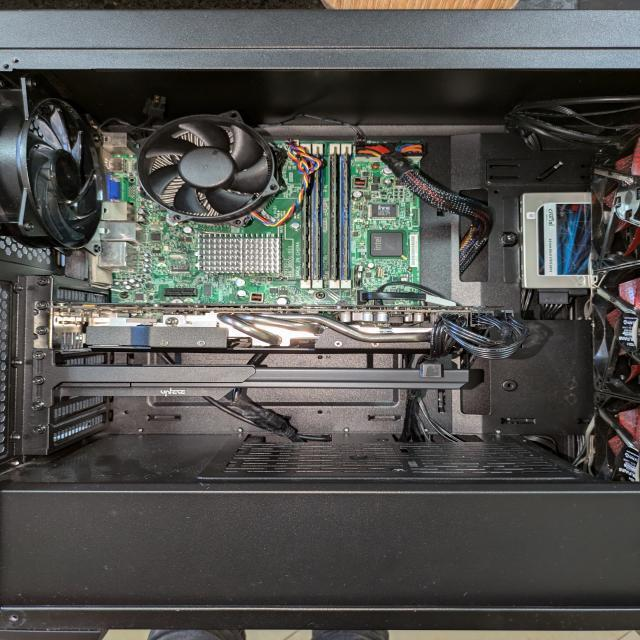CPU_Fan: (136, 115, 277, 218)
DISK: (523, 194, 592, 288)
Mainboard: (110, 140, 422, 305)
RAM: (301, 144, 311, 289), (330, 144, 340, 289), (312, 144, 322, 288), (340, 144, 350, 288)
